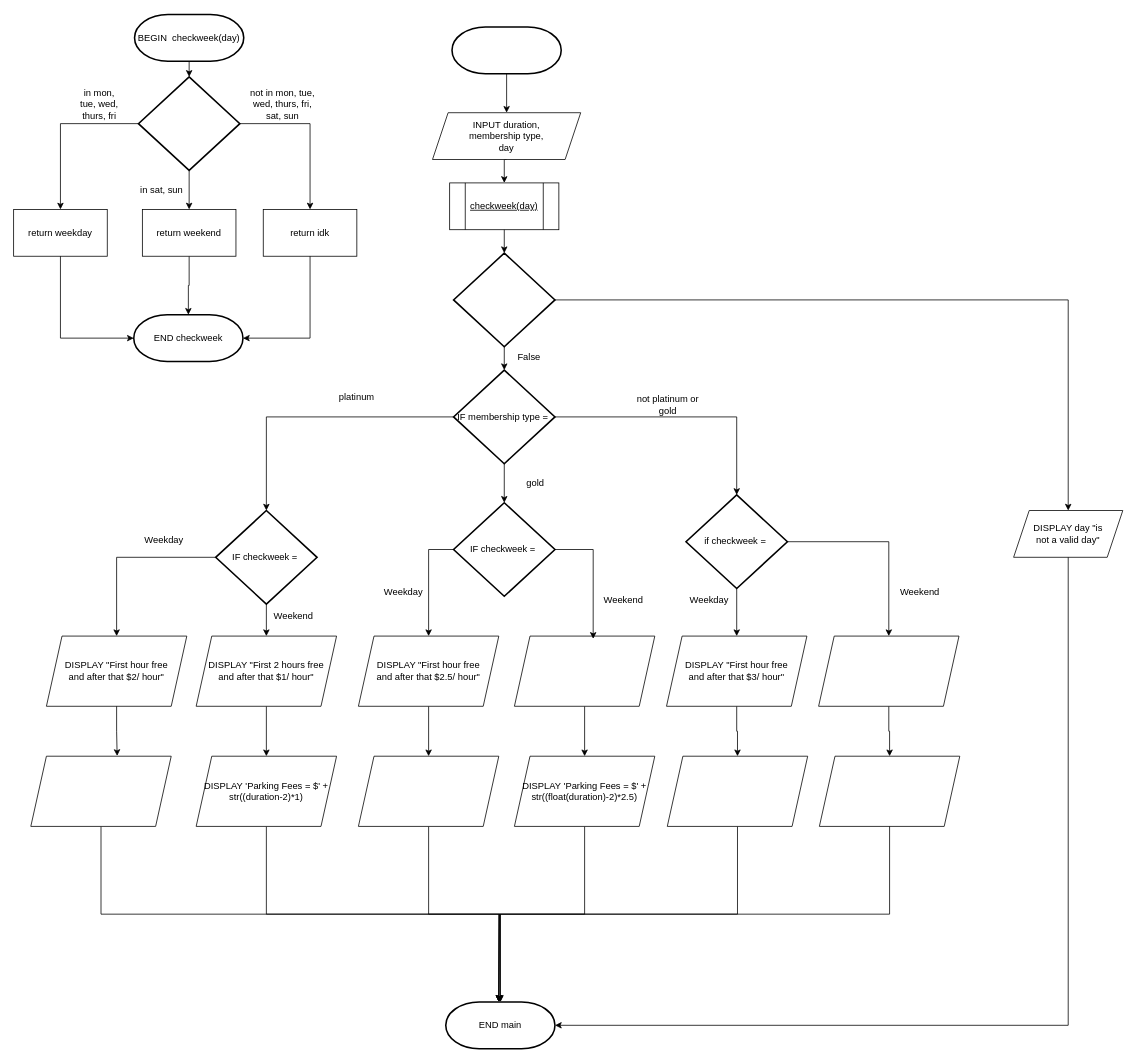
Some shapes in this 1136 by 1062 pixel diagram are drawn without their labels. Each missing label, with the centre of its shape:
BEGIN main: (x=506, y=50)
DISPLAY "First 2hours free and after that $2.5/ hour": (x=584, y=670)
DISPLAY "First two hours free and after that $3/ hour": (x=888, y=670)
DISPLAY 'Parking Fees = $' + str((duration-1)*2): (x=100, y=790)
DISPLAY 'Parking Fees = $' + str((duration-1)*3): (x=737, y=790)
DISPLAY 'Parking Fees = $' + str((duration-2)*3): (x=889, y=790)
DISPLAY 'Parking Fees = $' + str((float(duration)-1)*2.5): (x=428, y=790)
If checkweek = idk: (x=503, y=299)
IF day is: (x=188, y=123)
